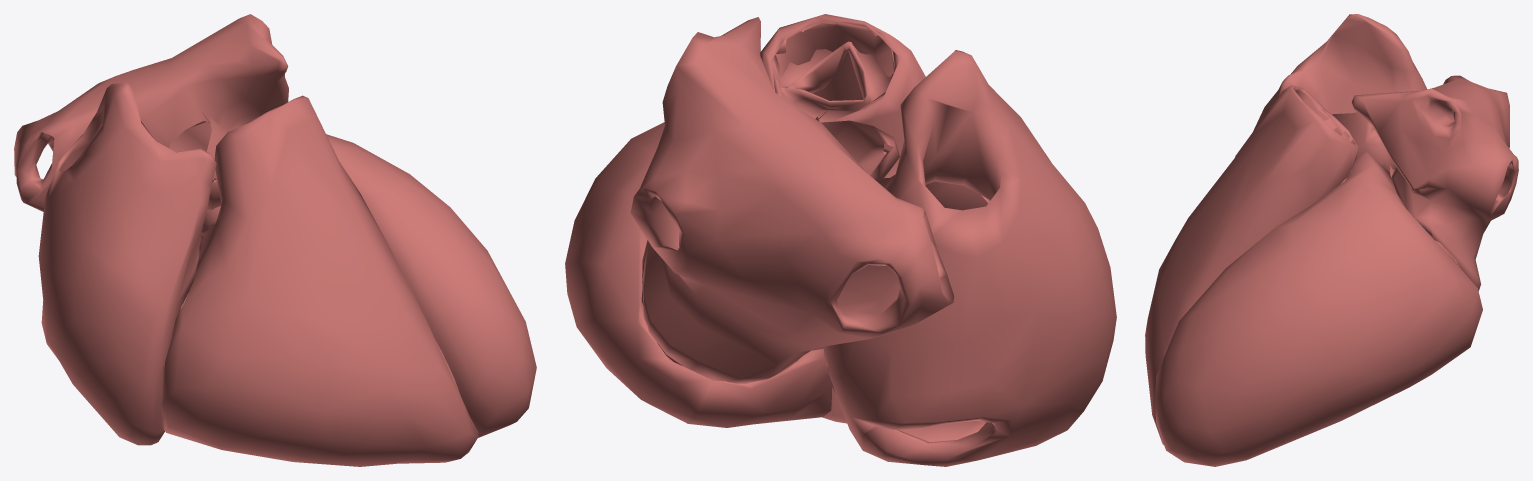
The model's file is heart.glb.
The picture shows the model from 3 angles, left to right: view 1: azimuth 30°, elevation 25°; view 2: azimuth 150°, elevation 25°; view 3: azimuth 270°, elevation 25°; orthographic projection. The views are drawn at different scales.
Parts seen in each view (by area): view 1: heart; view 2: heart; view 3: heart.
Boxes of the visible parts, x1,y1,x2,y2 form: heart: [14, 14, 536, 466]; heart: [565, 14, 1116, 466]; heart: [1145, 14, 1518, 466].
Bounding box in the file's own units: 0.1244 × 0.1057 × 0.1053.
